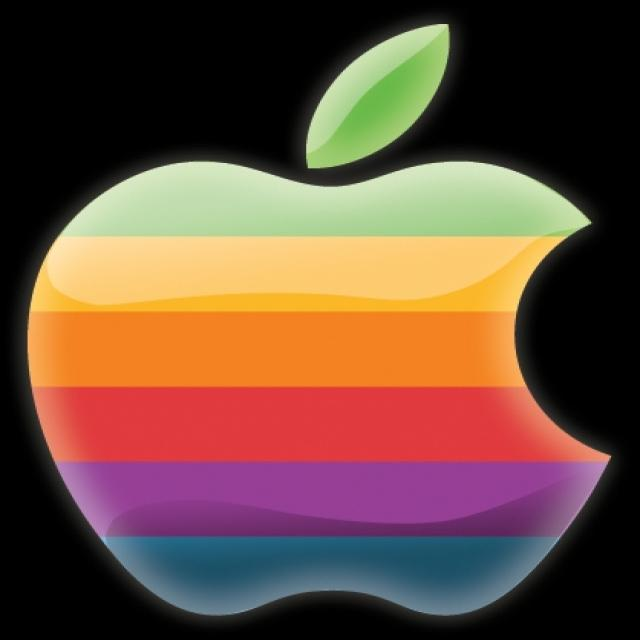apple: (3, 2, 640, 640)
